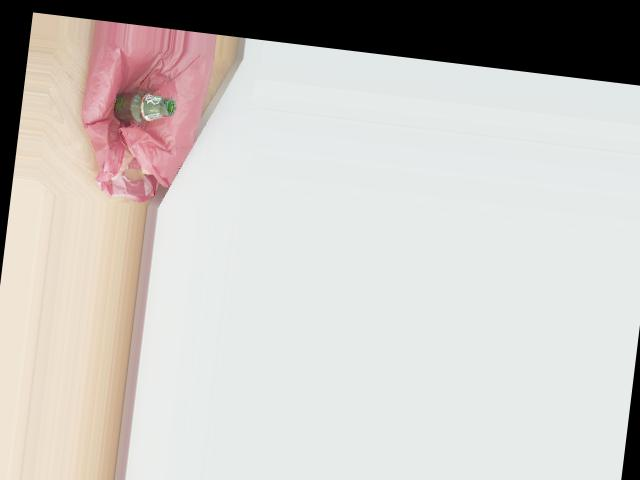beer: (111, 86, 177, 128)
